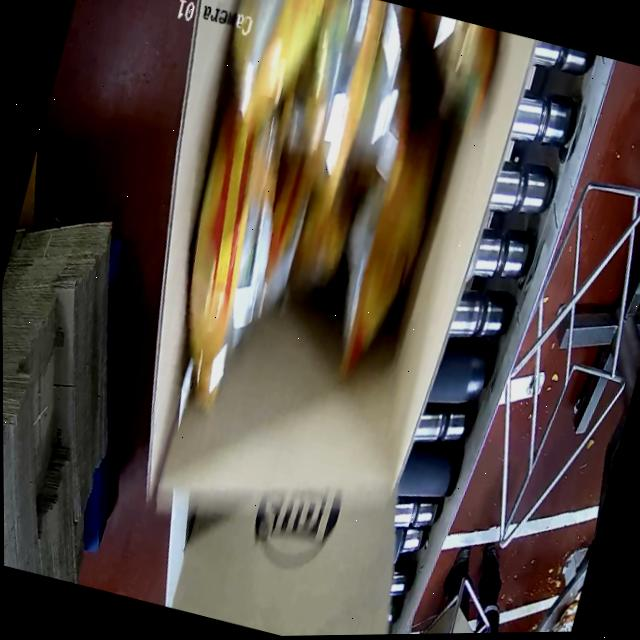FRENCH_CHEESE: (143, 0, 506, 424)
